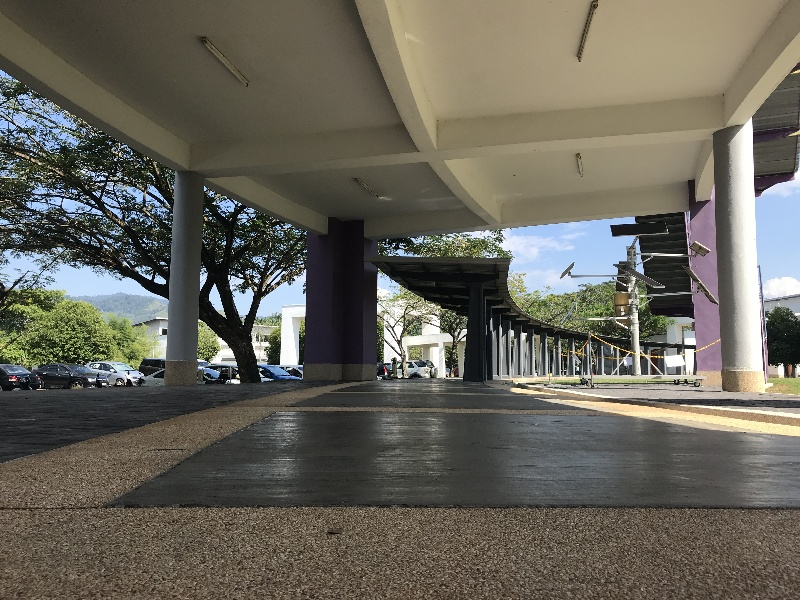Block D Pillar 5: (8, 8, 797, 582)
pillar: (701, 123, 783, 401), (291, 206, 393, 393), (668, 164, 738, 380), (158, 159, 209, 393), (460, 278, 499, 386)
